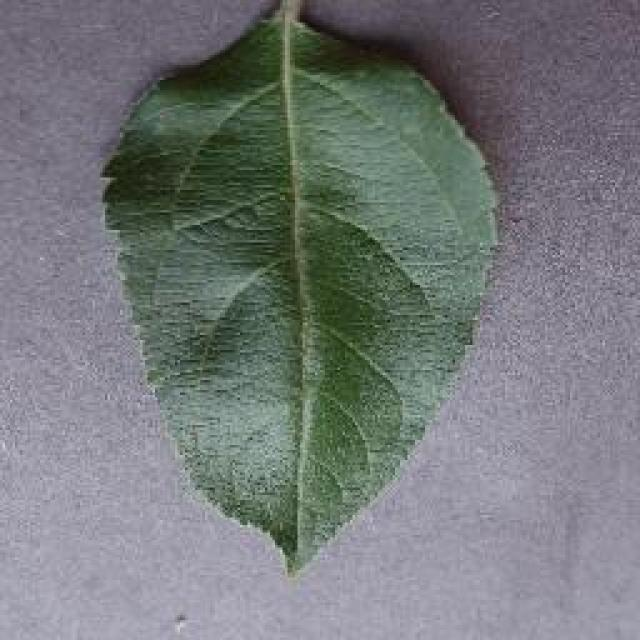apple healthy: (98, 5, 502, 575)
